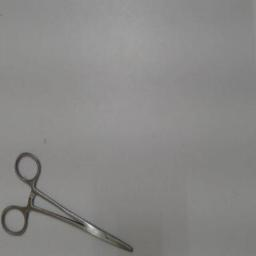Mayo Needle Holder: (0, 144, 138, 256)
